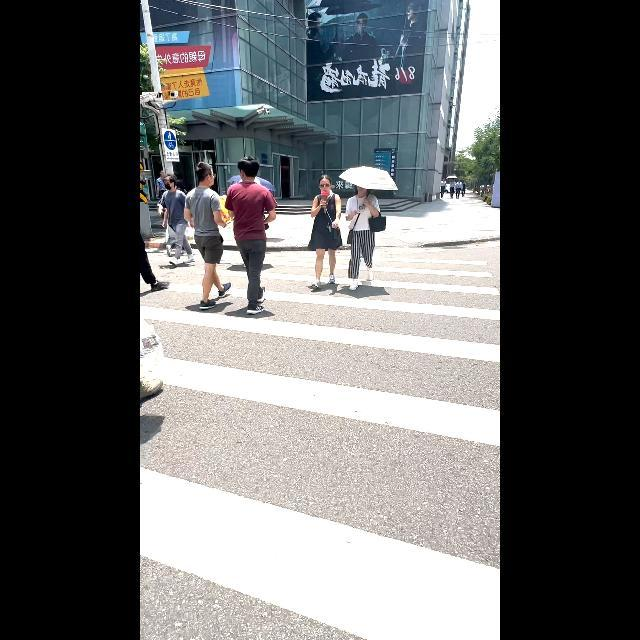sidewalk: (140, 240, 500, 640)
